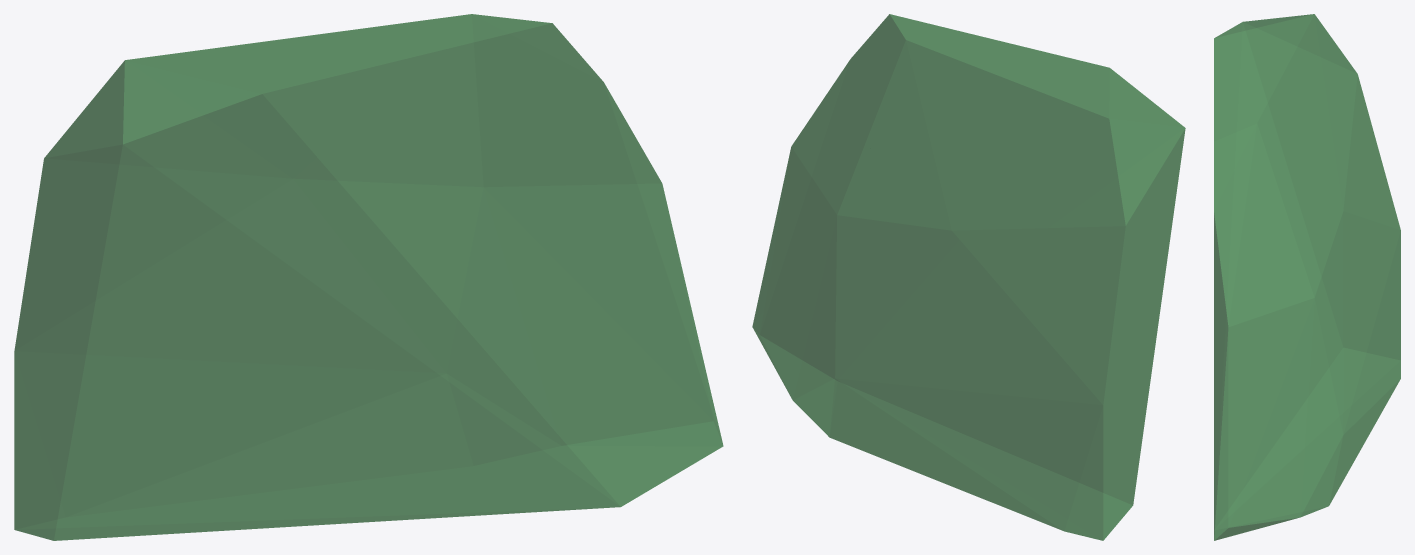
3 views of the same model, side by side, from view 1: azimuth 30°, elevation 25°; view 2: azimuth 150°, elevation 25°; view 3: azimuth 270°, elevation 25° (orthographic). The views are drawn at different scales.
Parts seen in each view (by area): view 1: Shape_IndexedFaceSet.003_Shape_IndexedFaceSet.3591; view 2: Shape_IndexedFaceSet.003_Shape_IndexedFaceSet.3591; view 3: Shape_IndexedFaceSet.003_Shape_IndexedFaceSet.3591.
Part boxes in pixels (x1,y1,x2,y2): Shape_IndexedFaceSet.003_Shape_IndexedFaceSet.3591: [14, 14, 723, 540]; Shape_IndexedFaceSet.003_Shape_IndexedFaceSet.3591: [752, 14, 1185, 540]; Shape_IndexedFaceSet.003_Shape_IndexedFaceSet.3591: [1214, 14, 1400, 540].
Bounding box in the file's own units: 0.0646 × 0.0532 × 0.0247.
